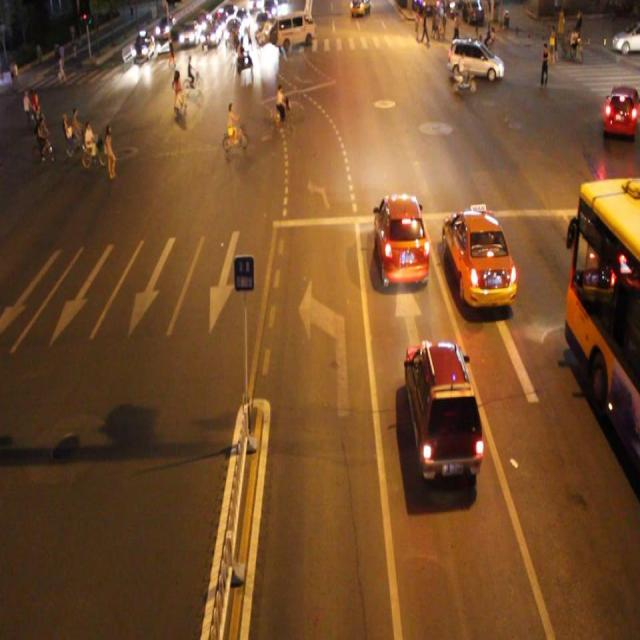car: (403, 341, 481, 479), (440, 204, 518, 308), (373, 192, 429, 288)
truck: (448, 36, 502, 82), (275, 11, 316, 48)
van: (562, 177, 640, 471)
